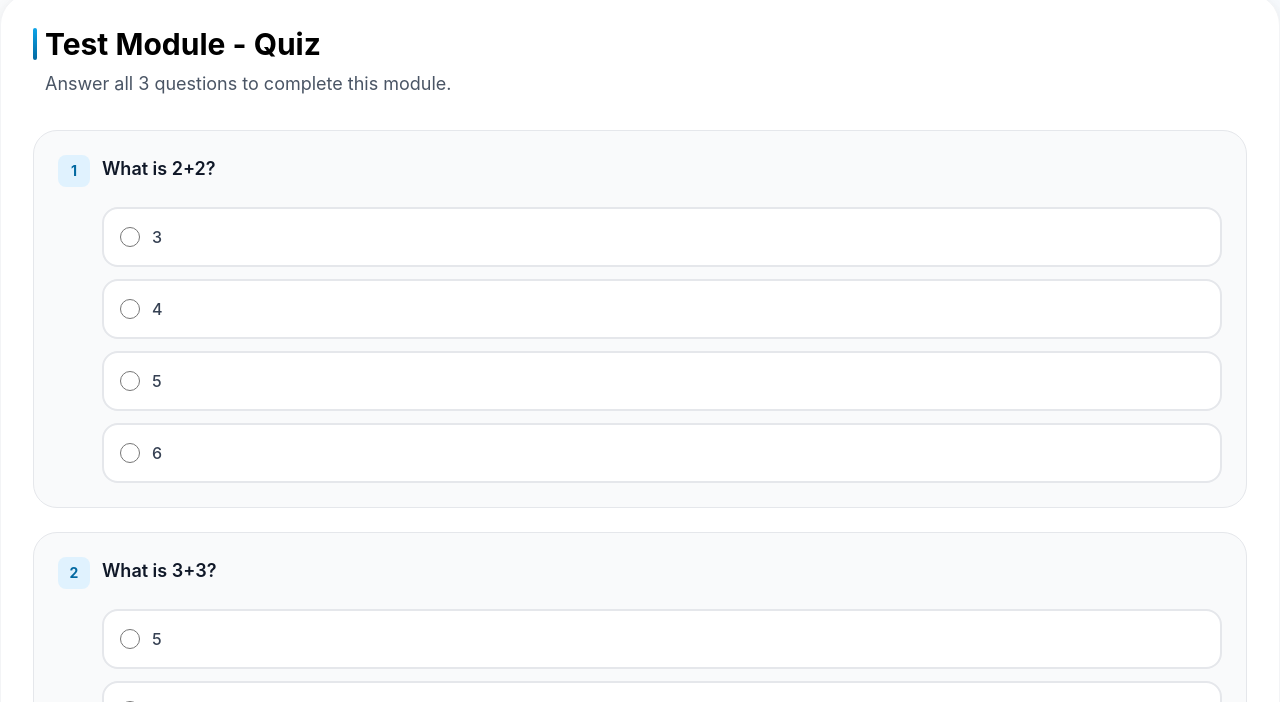
Test: Quiz Component › should submit quiz and show success results
Expected: the heading "Test Module - Quiz" is shown, top-left (33, 26), bottom-right (321, 62)
# Answer all questions
Click the radio button labelled "4": (130, 309) top-left (120, 299), bottom-right (140, 319)
(page scrolled)
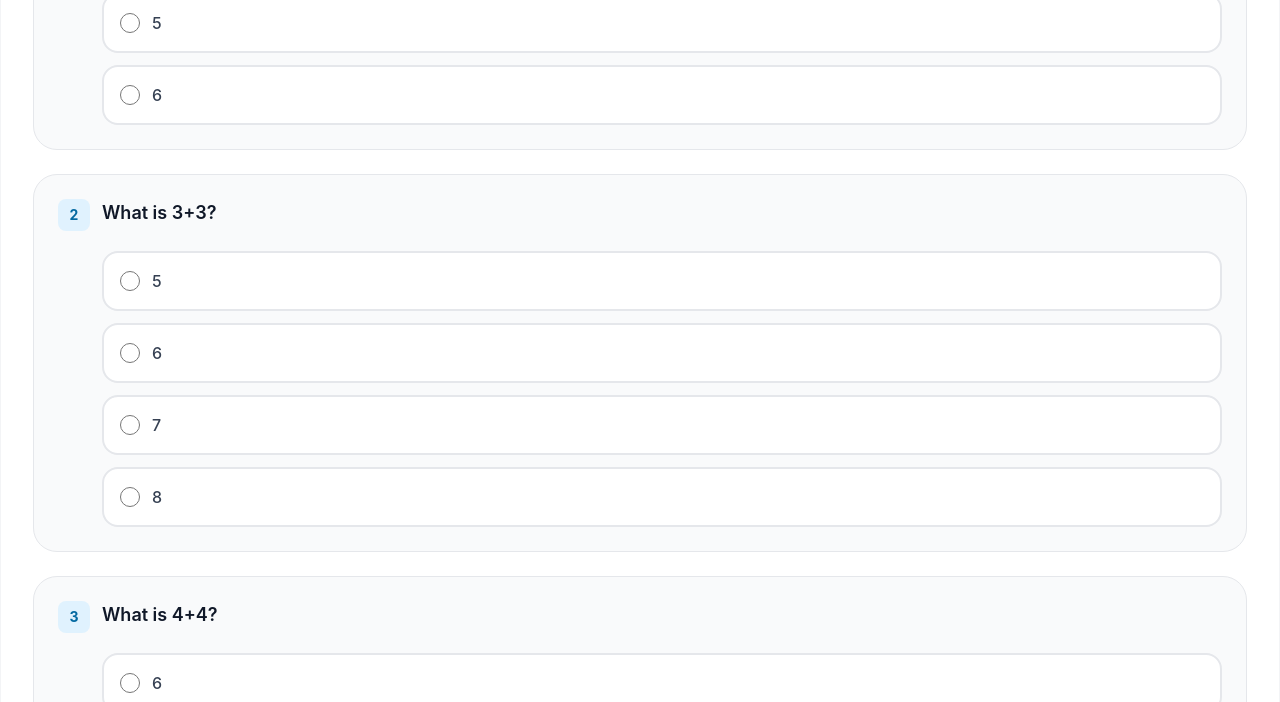
Click the radio button labelled "6" below "What is 3+3?": (130, 353) top-left (120, 343), bottom-right (140, 363)
(page scrolled)
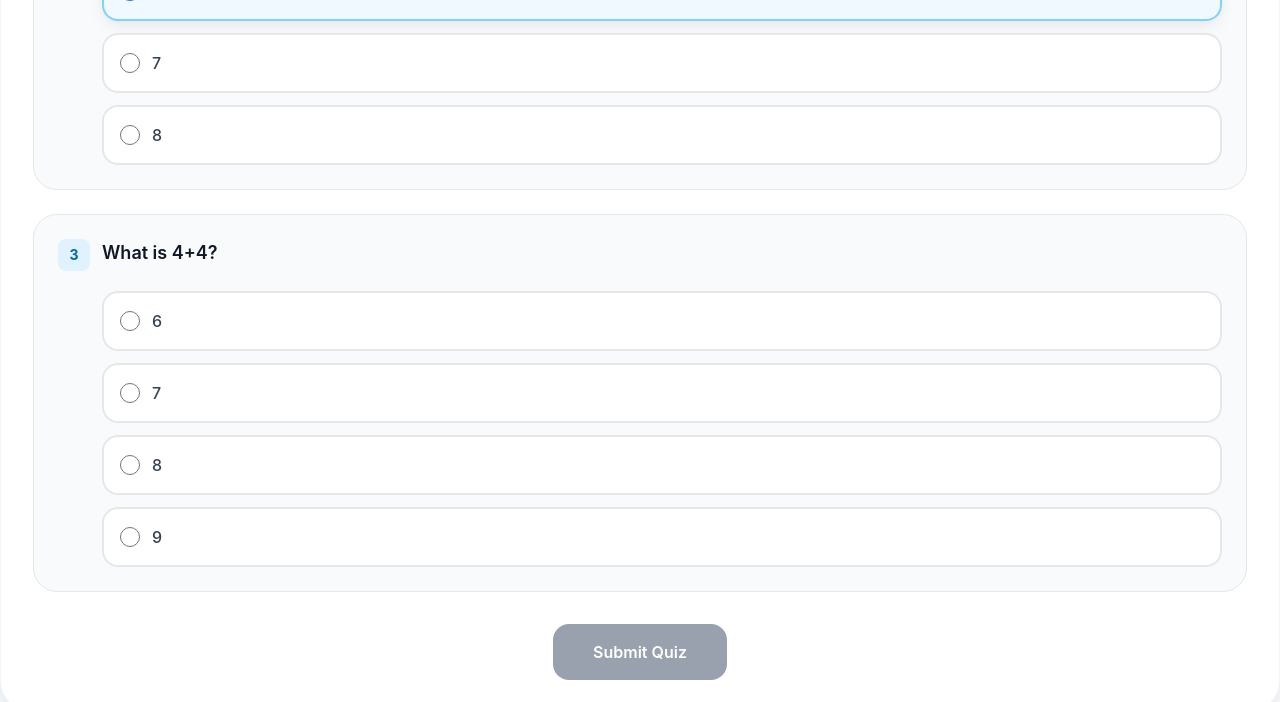
Click the radio button labelled "8" below "What is 4+4?": (130, 465) top-left (120, 455), bottom-right (140, 475)
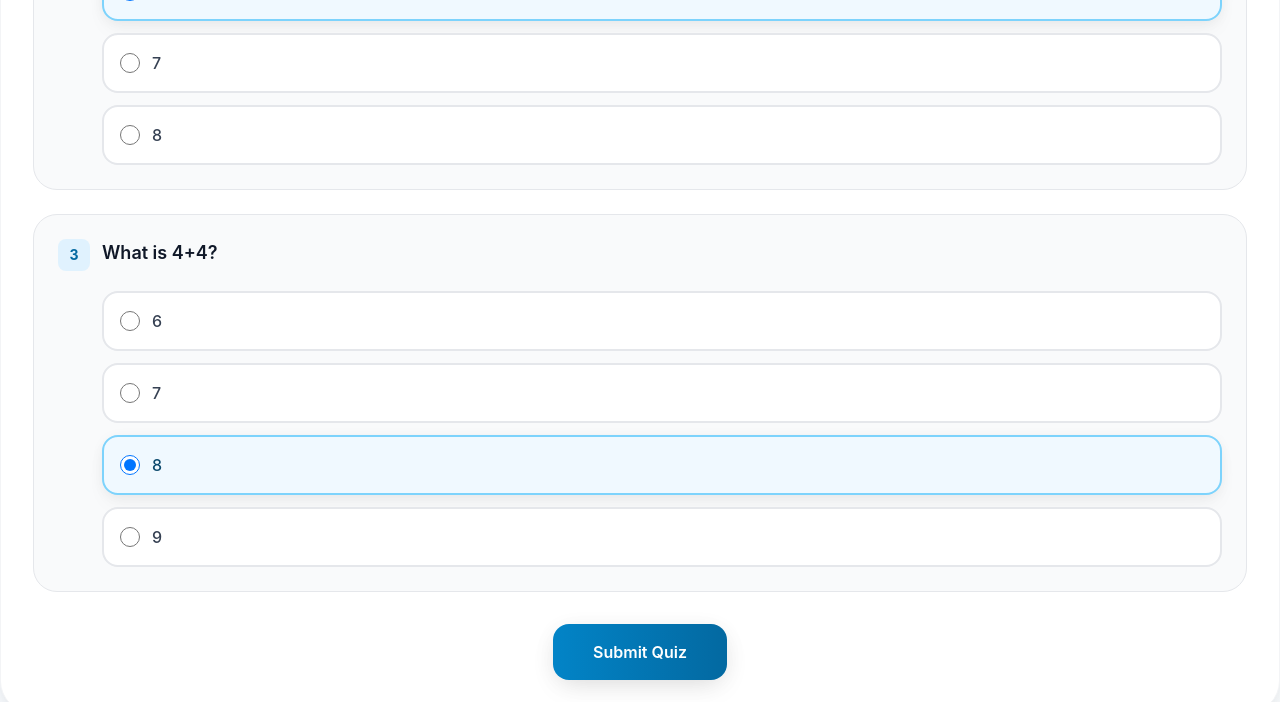
Click the button "Submit Quiz": (640, 652) top-left (553, 624), bottom-right (727, 680)
(page scrolled)
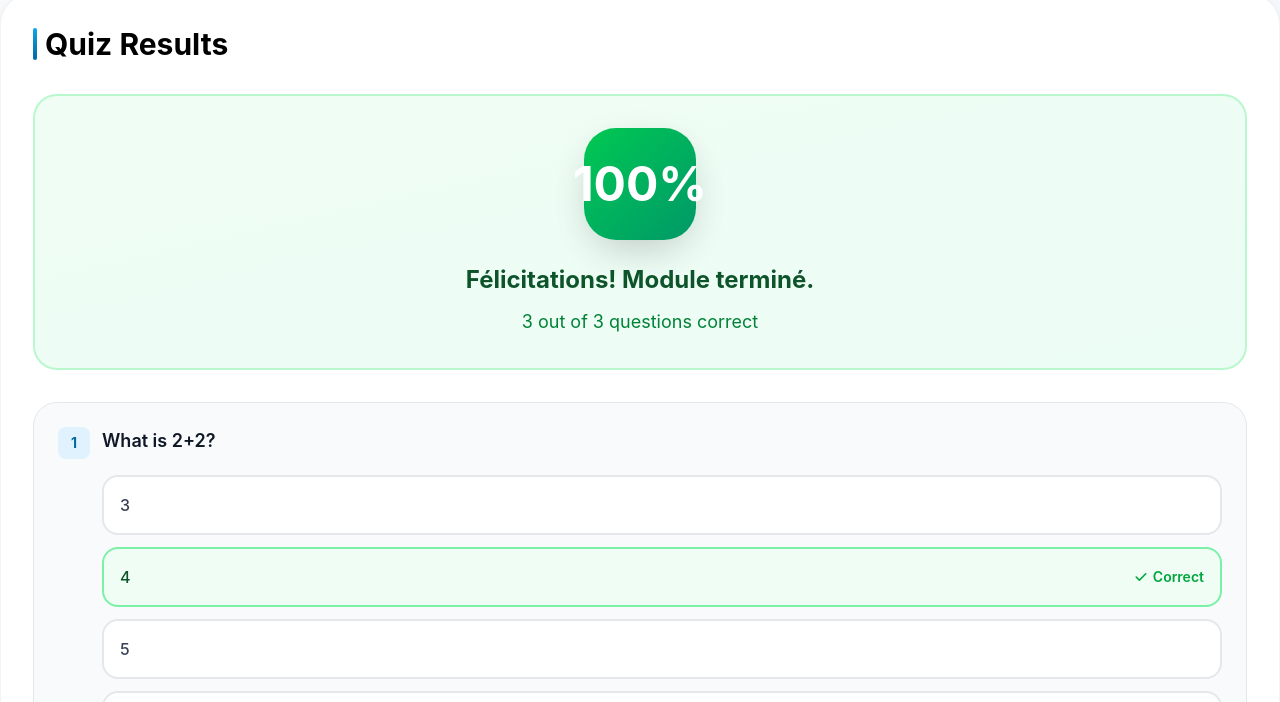
Expected: the heading "Quiz Results" is shown, top-left (33, 26), bottom-right (228, 62)
Expected: the text "100%" is shown, top-left (573, 160), bottom-right (707, 208)
Expected: the text "Félicitations! Module terminé." is shown, top-left (466, 265), bottom-right (814, 294)
